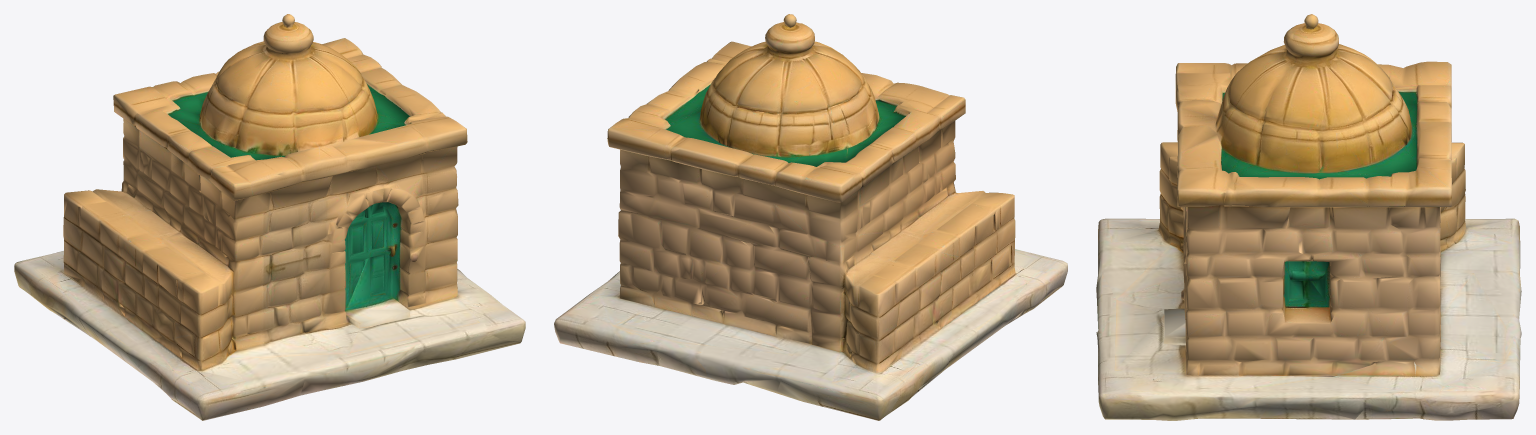
Rendered from house.glb.
3 renders of one model, left to right at view 1: azimuth 30°, elevation 25°; view 2: azimuth 150°, elevation 25°; view 3: azimuth 270°, elevation 25°, orthographic. The views are drawn at different scales.
Bounding box in the file's own units: 1.91 × 1.63 × 1.89.
1 material, 1 textured.
